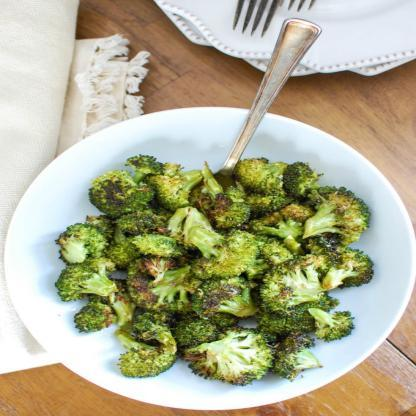broccoli: (52, 154, 374, 386)
